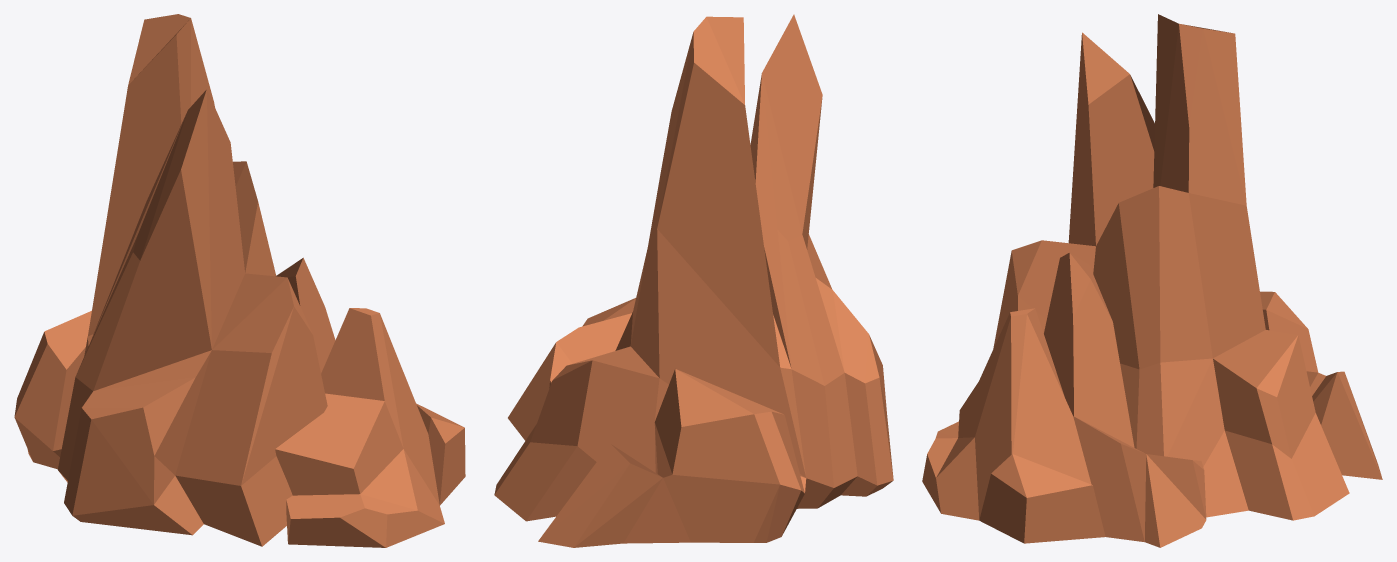
Rendered from Stalagmite_2.fbx.
The picture shows the model from 3 angles, left to right: view 1: azimuth 30°, elevation 25°; view 2: azimuth 150°, elevation 25°; view 3: azimuth 270°, elevation 25°; orthographic projection. The views are drawn at different scales.
Visible parts, largest first — view 1: Stalagmite_2; view 2: Stalagmite_2; view 3: Stalagmite_2.
Part boxes in pixels (<box>): Stalagmite_2: <box>14,14,465,547</box>; Stalagmite_2: <box>494,14,893,547</box>; Stalagmite_2: <box>922,14,1382,547</box>.
Size of the model in its own units: 300 by 363 by 353.
